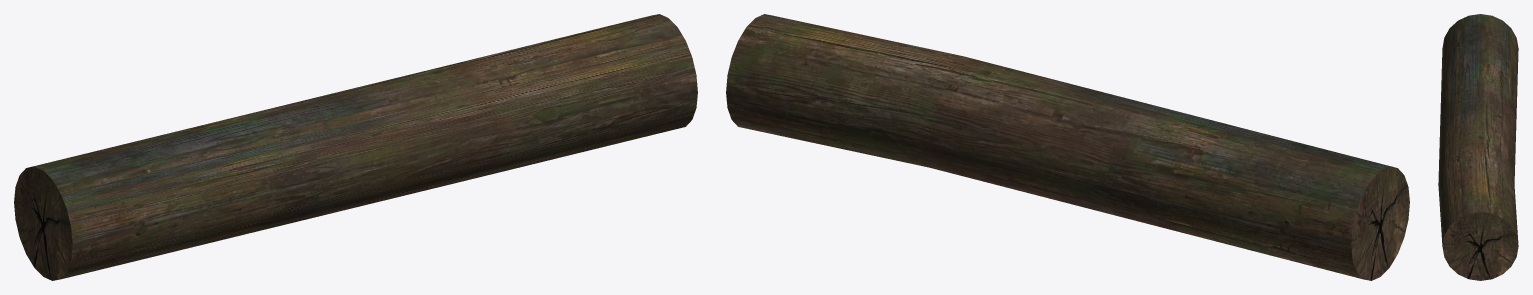
The picture shows the model from 3 angles, left to right: view 1: azimuth 30°, elevation 25°; view 2: azimuth 150°, elevation 25°; view 3: azimuth 270°, elevation 25°; orthographic projection. The views are drawn at different scales.
Parts seen in each view (by area): view 1: SM_BB_T1_Beam_Thick_Large_Horizontal_LOD0; view 2: SM_BB_T1_Beam_Thick_Large_Horizontal_LOD0; view 3: SM_BB_T1_Beam_Thick_Large_Horizontal_LOD0.
Boxes of the visible parts, x1=… form: SM_BB_T1_Beam_Thick_Large_Horizontal_LOD0: x1=14, y1=14, x2=697, y2=280; SM_BB_T1_Beam_Thick_Large_Horizontal_LOD0: x1=726, y1=14, x2=1409, y2=280; SM_BB_T1_Beam_Thick_Large_Horizontal_LOD0: x1=1438, y1=14, x2=1518, y2=280.
Bounding box in the file's own units: 3 × 0.5008 × 0.5133.
Materials: 1 (1 with a texture image).
